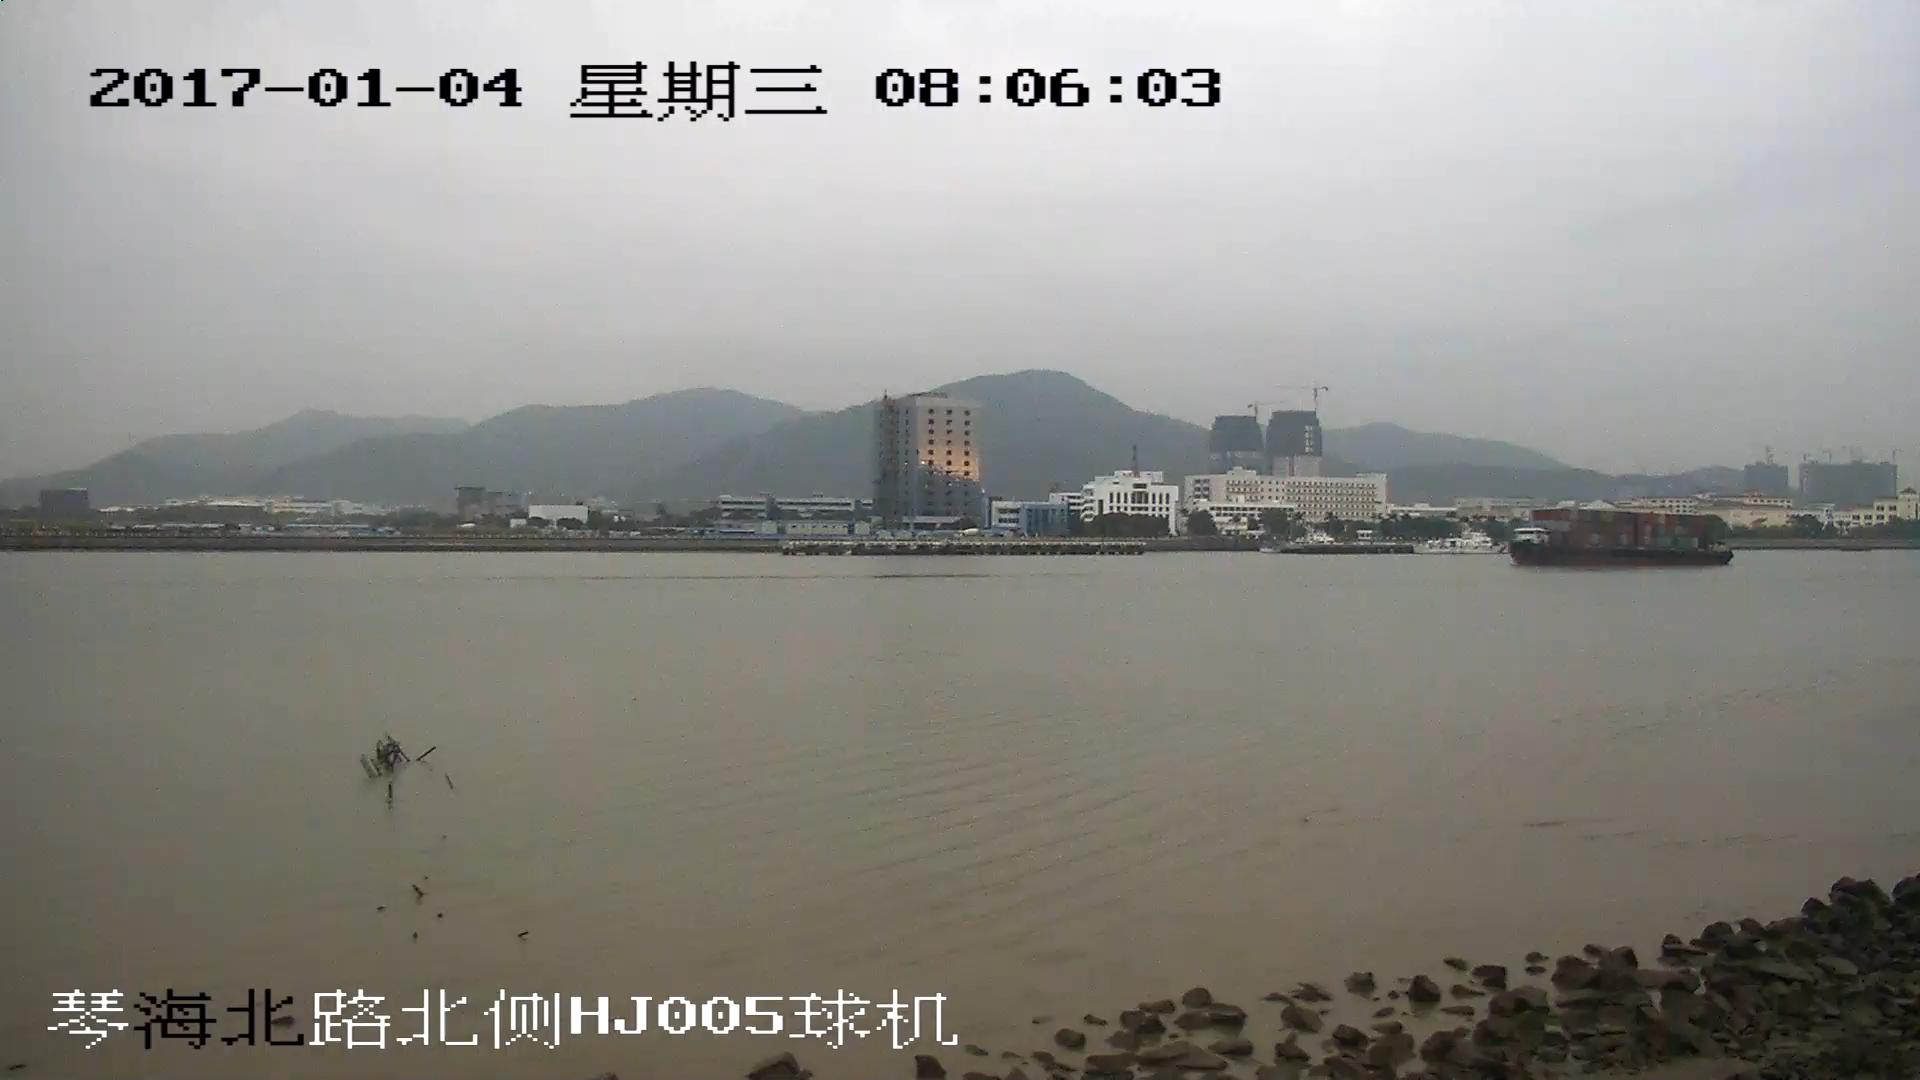container ship: (1516, 508, 1735, 563)
